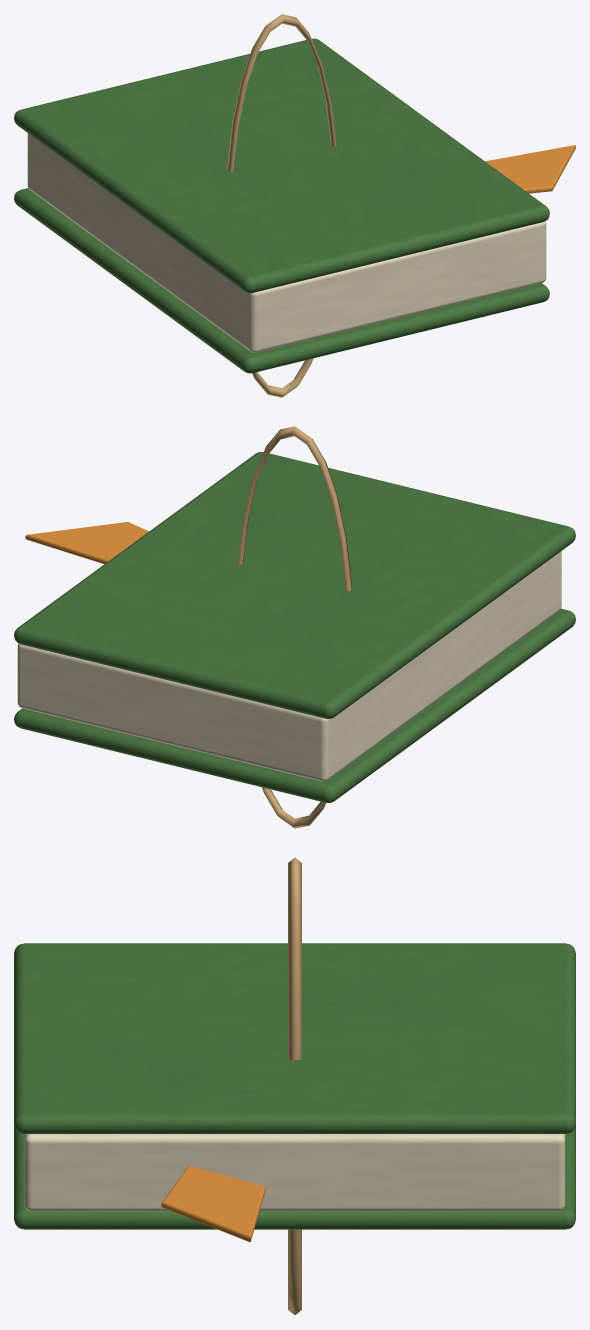
File: holts_notes.glb
The picture shows the model from 3 angles, top to bottom: view 1: azimuth 30°, elevation 25°; view 2: azimuth 150°, elevation 25°; view 3: azimuth 270°, elevation 25°; orthographic projection. The views are drawn at different scales.
Visible parts, largest first — view 1: holts_notes; view 2: holts_notes; view 3: holts_notes.
Boxes of the visible parts, bbox=[...] form: holts_notes: bbox=[14, 14, 575, 397]; holts_notes: bbox=[14, 426, 575, 828]; holts_notes: bbox=[14, 858, 575, 1314].
Bounding box in the file's own units: 0.1679 × 0.1436 × 0.16.
Materials: 4 (2 with a texture image).
